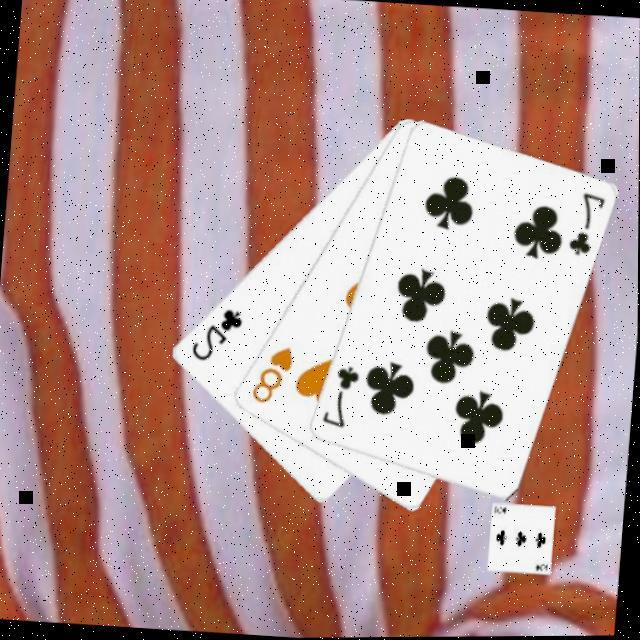2C: (188, 303, 248, 367)
7C: (566, 190, 610, 262), (320, 363, 364, 434)
8H: (250, 342, 298, 409)
